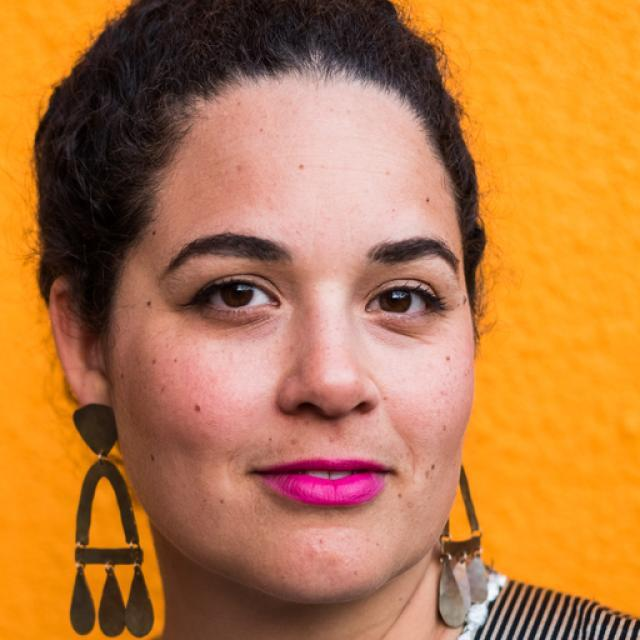content: (109, 84, 478, 606)
